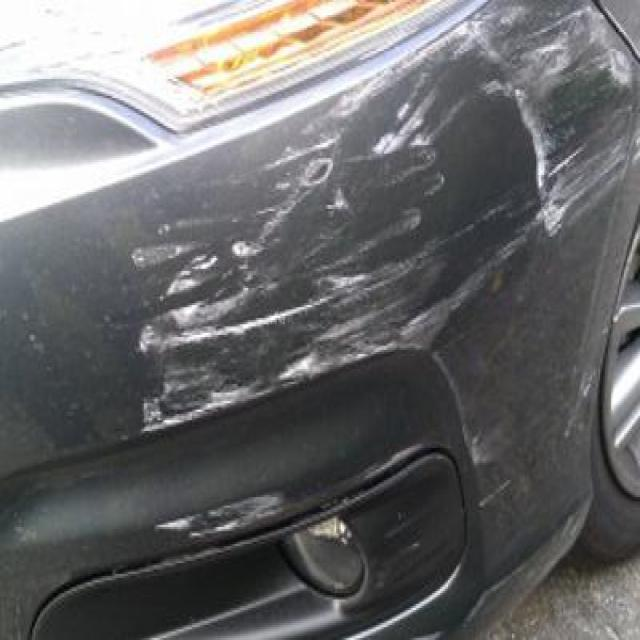scratch: (109, 9, 616, 438)
